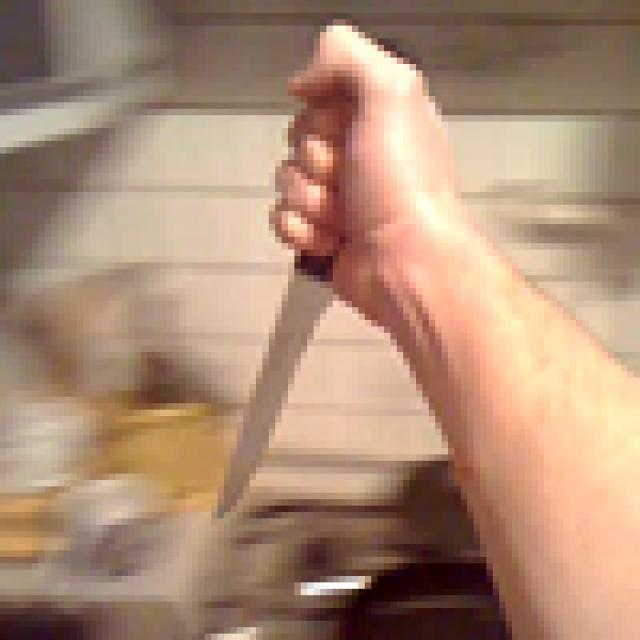knife: (199, 19, 455, 544)
